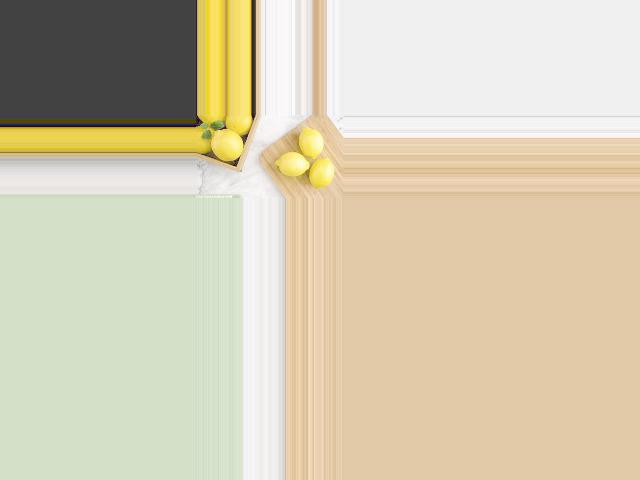lemon: (302, 156, 337, 193)
